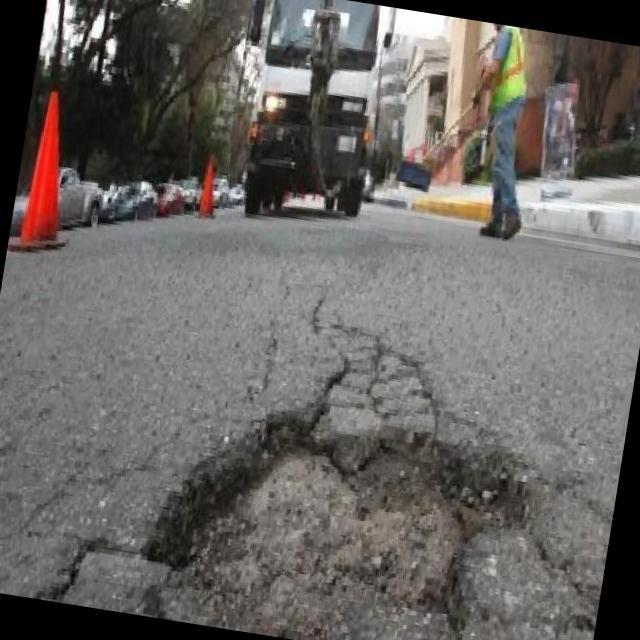Pothole: (166, 429, 525, 640)
